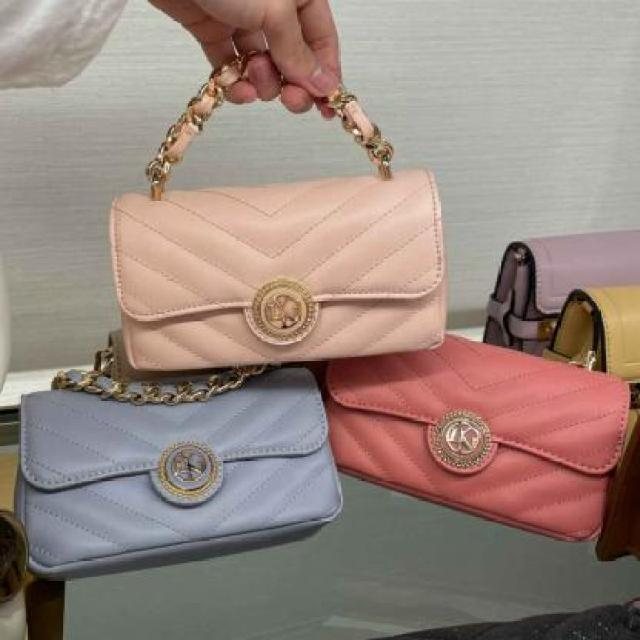Bag: (64, 35, 484, 377), (0, 331, 358, 580), (315, 305, 634, 563)
